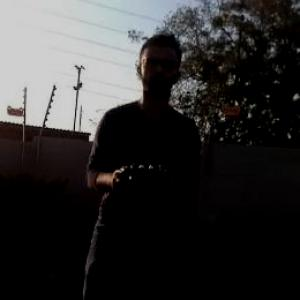follow: (66, 28, 205, 299)
